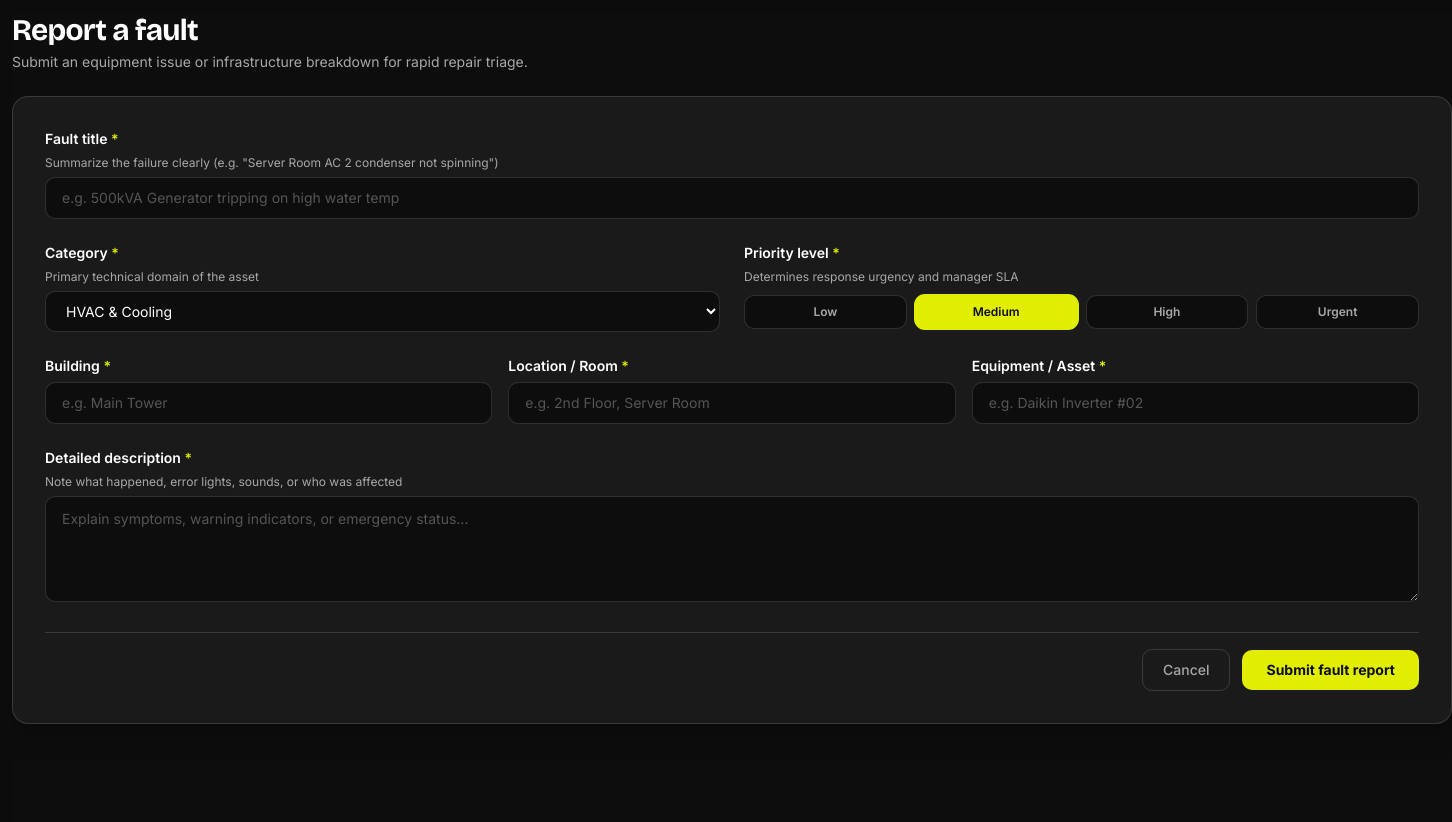
Test: ReportFaultPage › displays API error alert when submission fails
Type "Faulty Generator" into the field labelled "Fault title *" at [732, 198], box [45,177,1419,219]
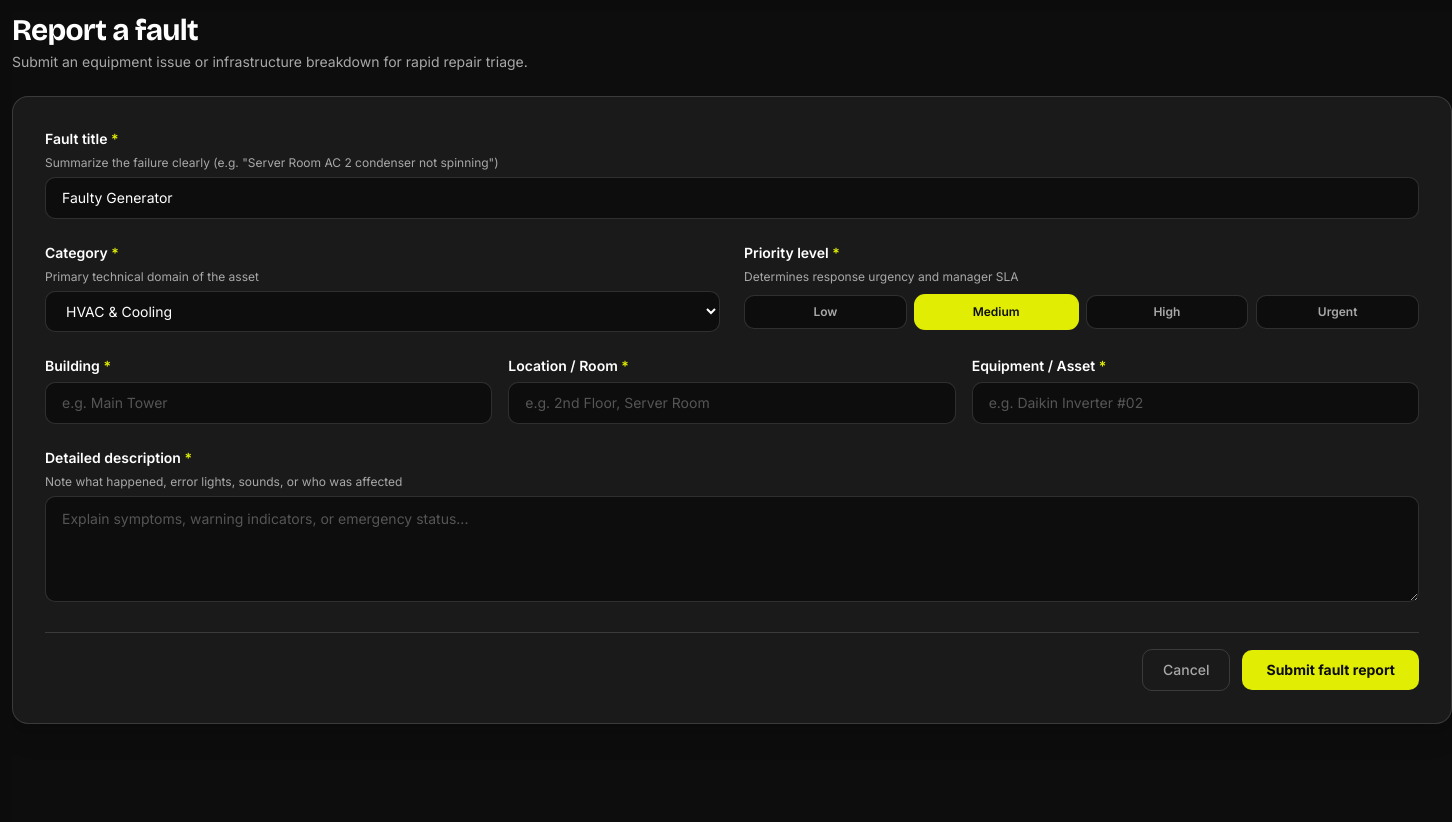
Type "Annex" into the field labelled "Building *" at [269, 403], box [45,382,492,424]
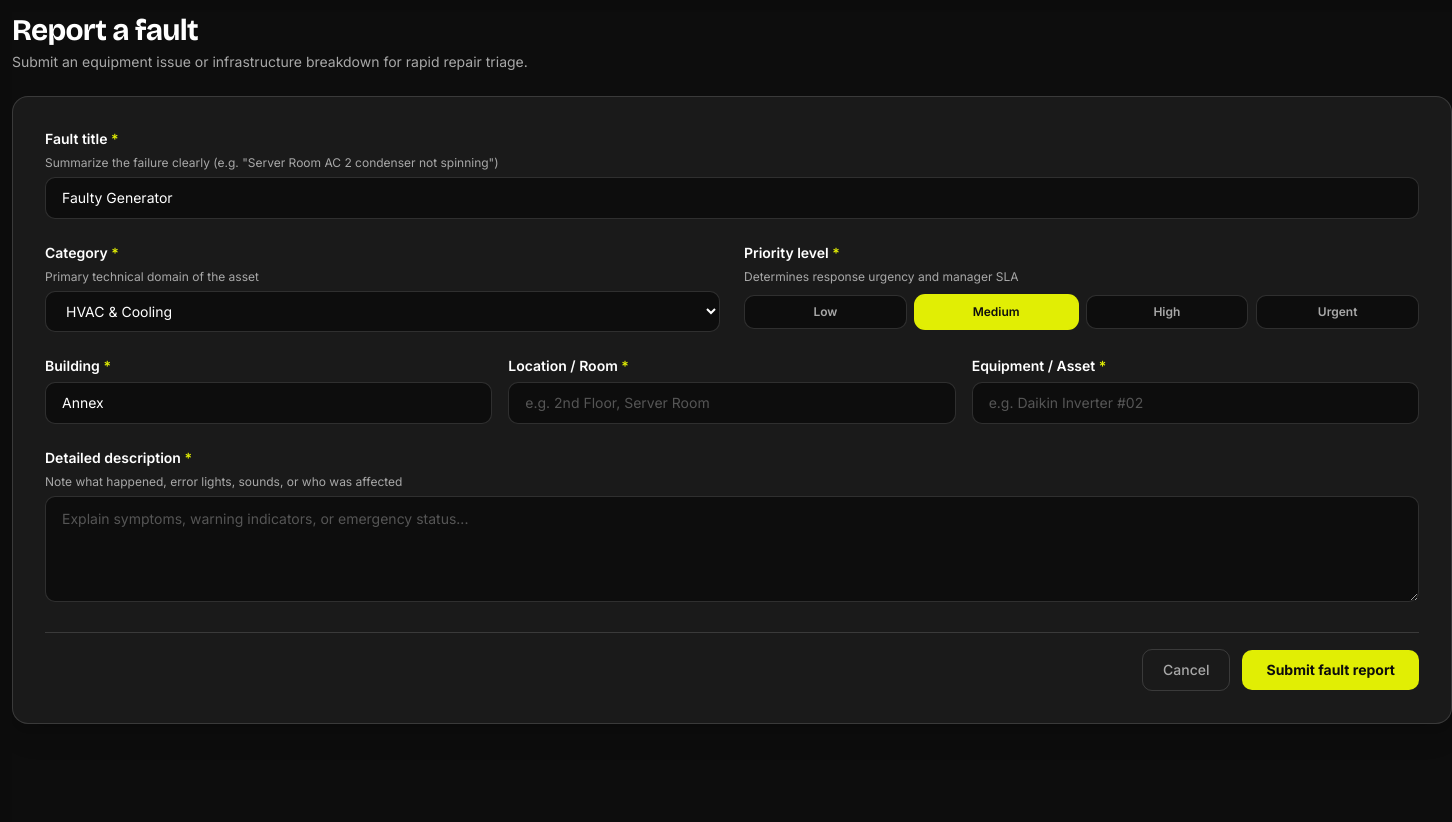
Type "Basement" into the field labelled "Location / Room *" at [732, 403], box [508,382,956,424]
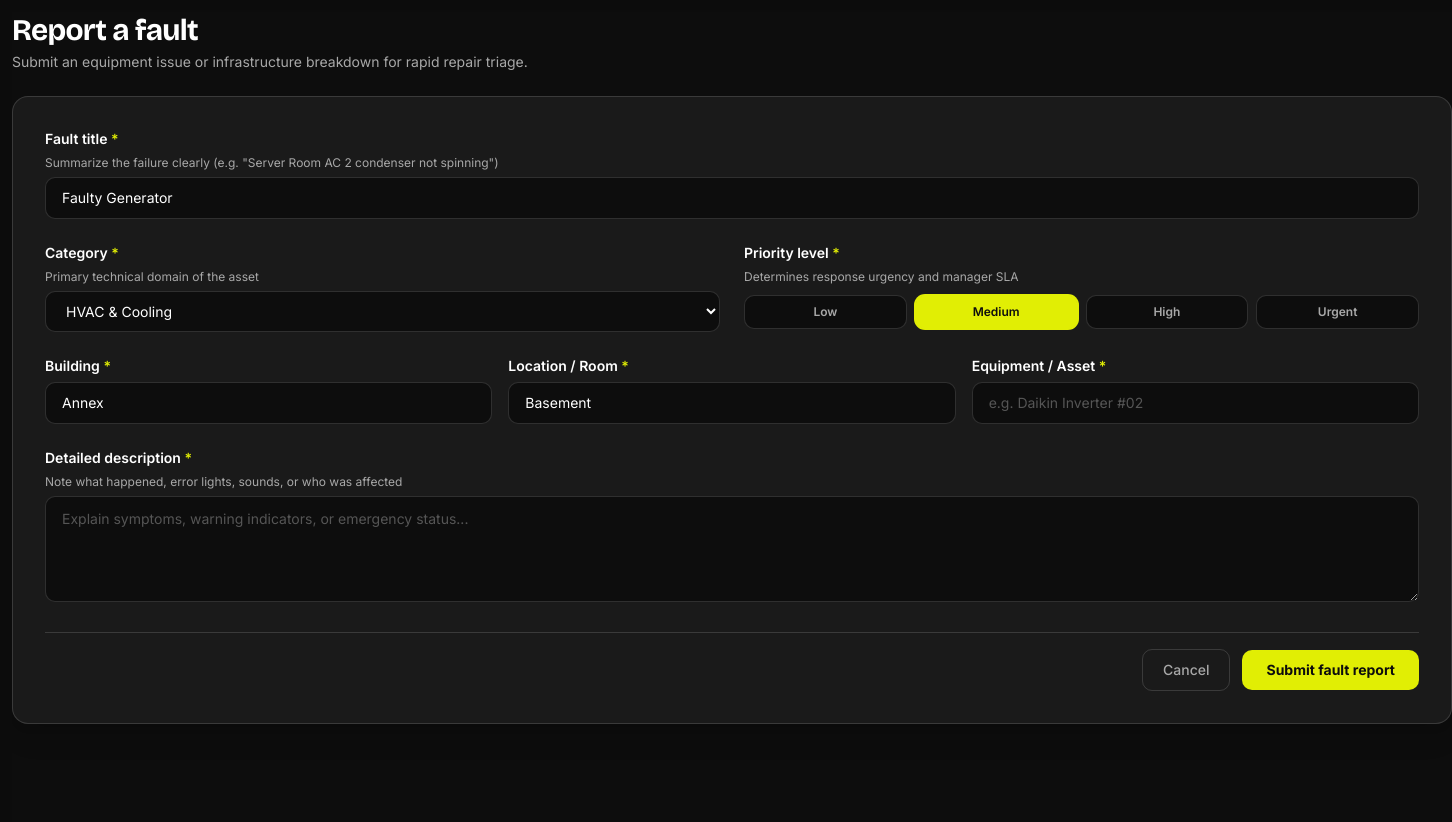
Type "Gen 1" into the field labelled "Equipment / Asset *" at [1195, 403], box [972,382,1419,424]
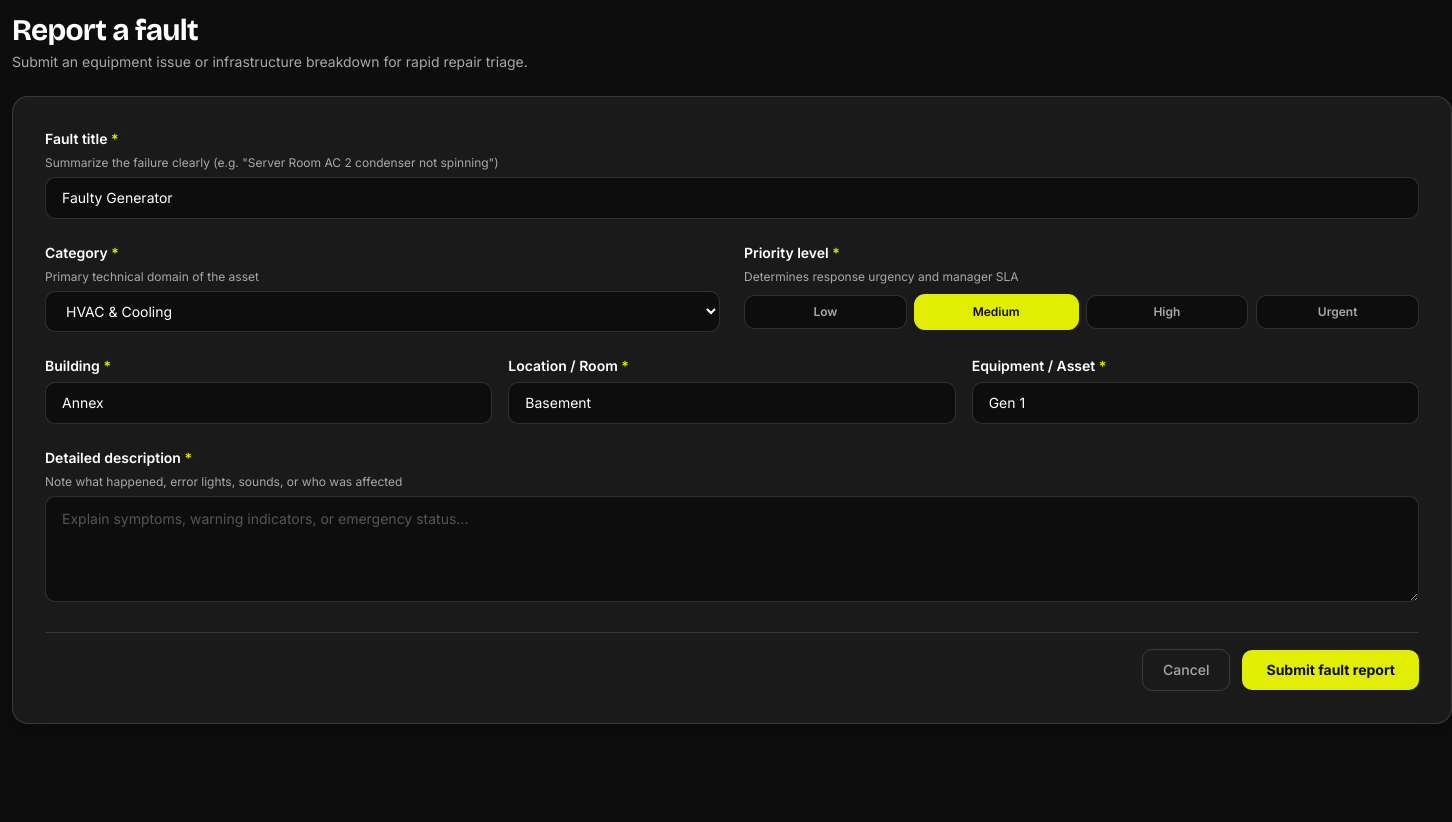
Type "Smoke coming from exhaust" into the text box labelled "Detailed description *" at [732, 549], box [45,496,1419,602]
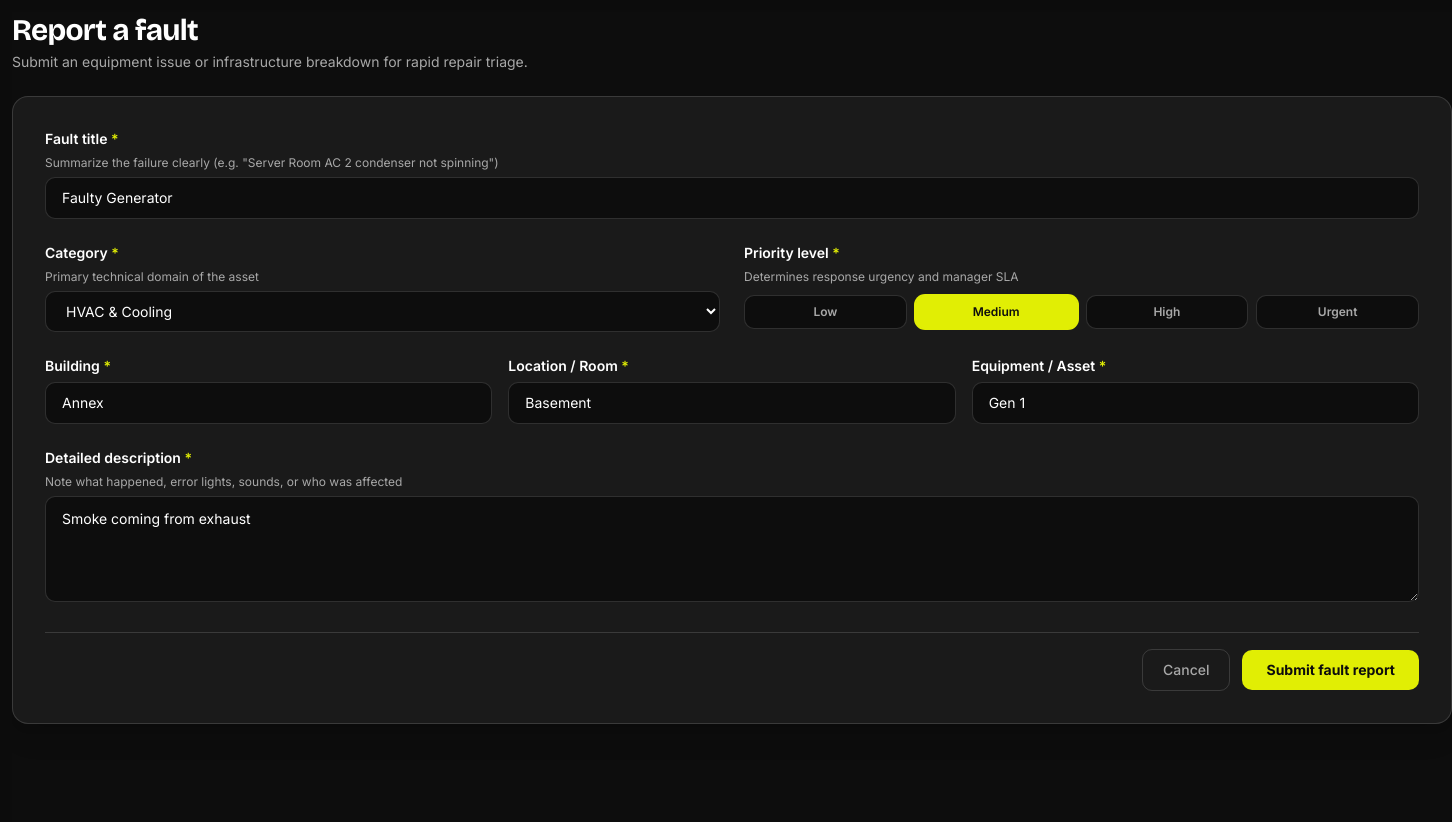
Click the button "Submit fault report" at [1331, 670], box [1242,650,1419,690]
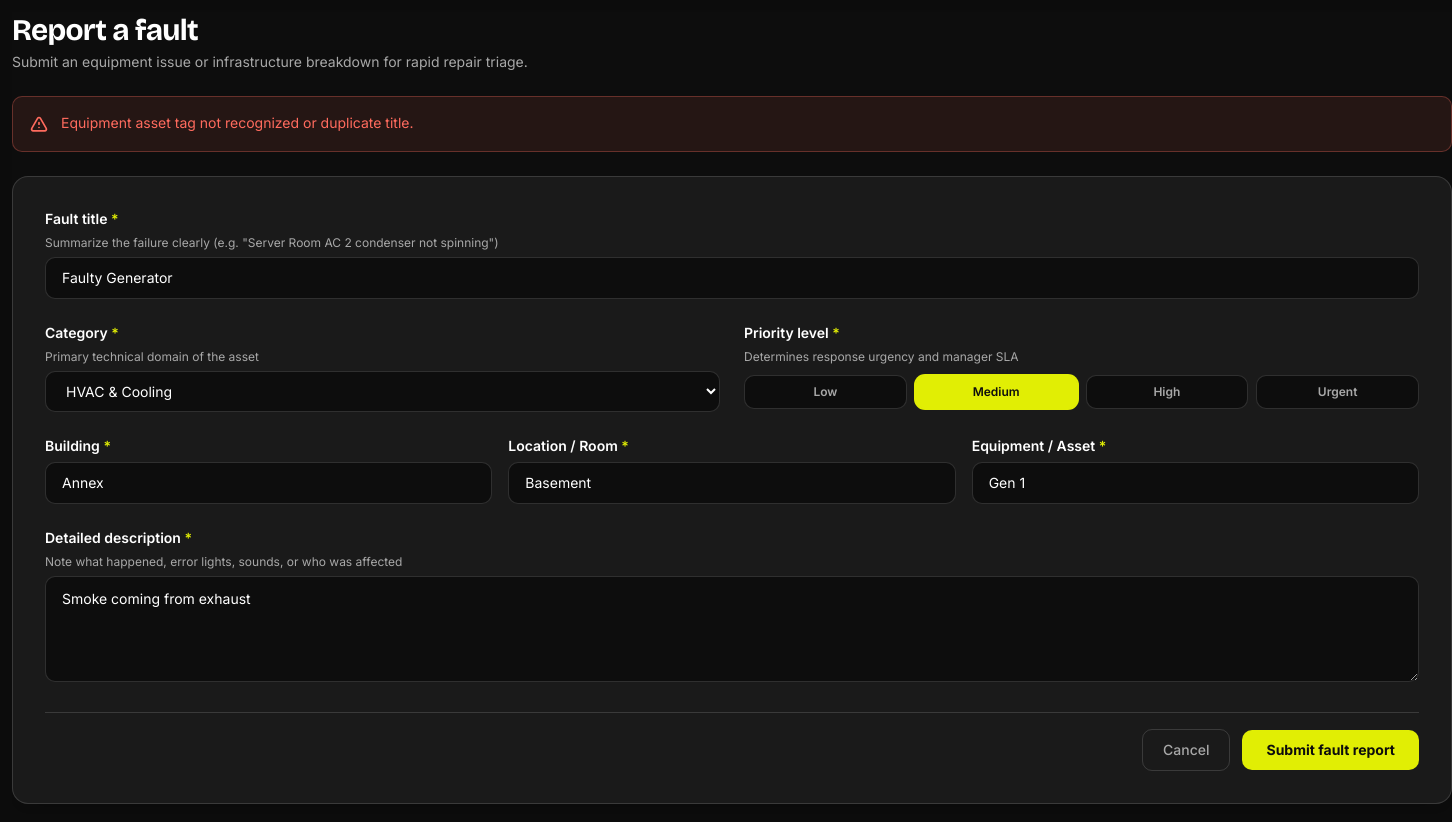
expect the message reads "Equipment asset tag not recognized or duplicate title.": met, box [61,114,414,131]
